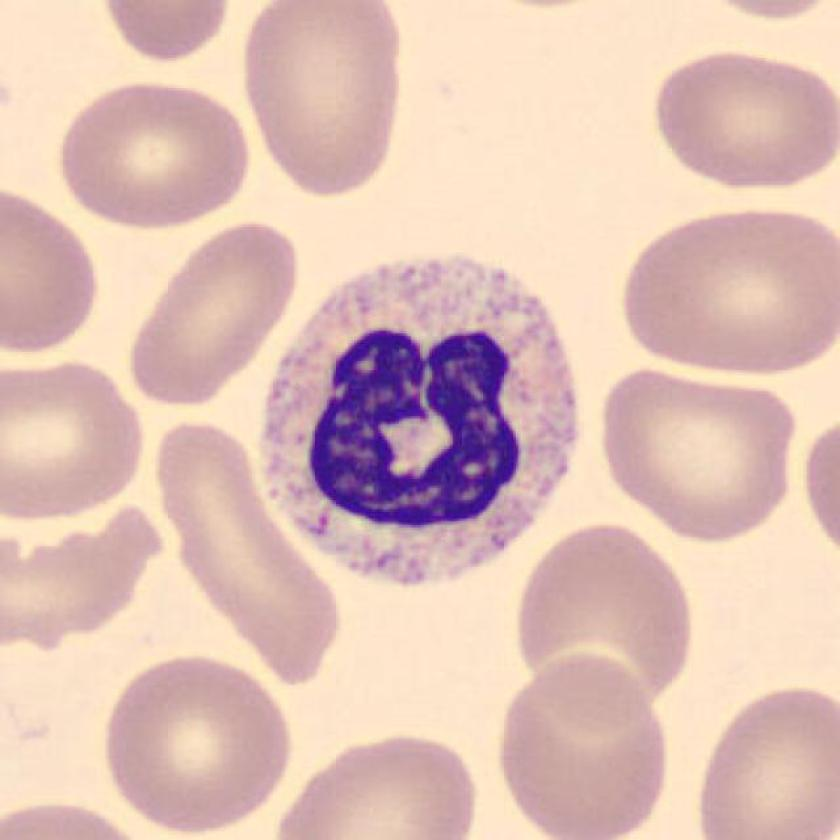neutrophil: (260, 258, 580, 584)
